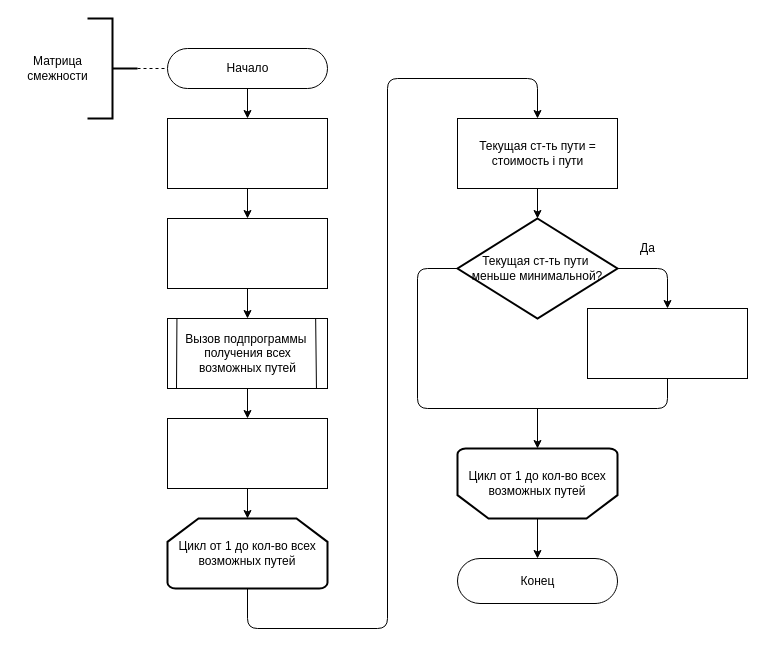
This 765x654 diagram has some shape labels left out. Each missing label, with the centre of its shape:
"Выбор начальной вершины, откуда строится маршрут" belongs at pixel 247 253.
"Инициализация минимальной ст-ти пути стоимостью пути до первой вершины 0" belongs at pixel 247 453.
"Инициализация минимальной, текущей стоимости пути и кол-ва путей нулем" belongs at pixel 247 153.
"Минимальная ст-ть пути = Текущая ст-ть пути" belongs at pixel 667 343.
